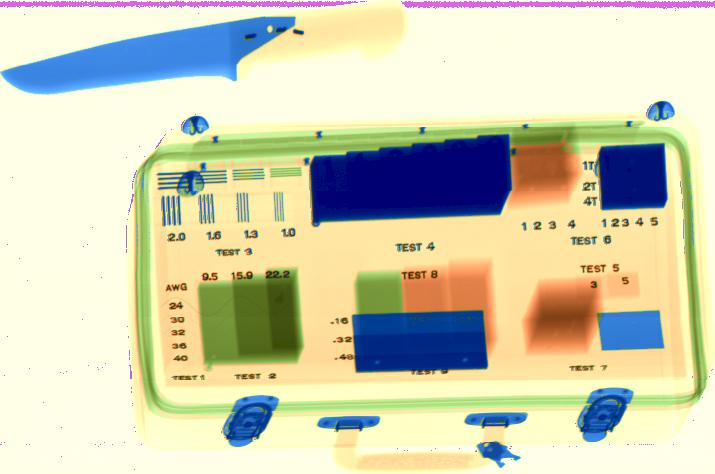Knife: (1, 1, 408, 97)
